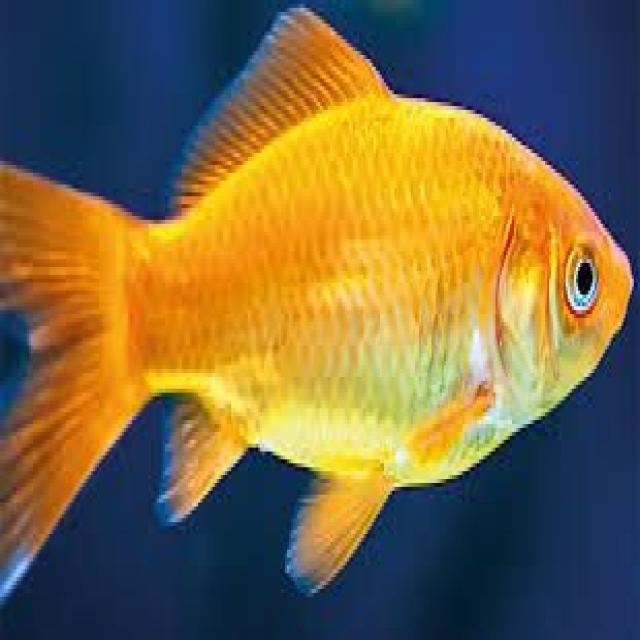Gold-Fish: (12, 0, 638, 628)
